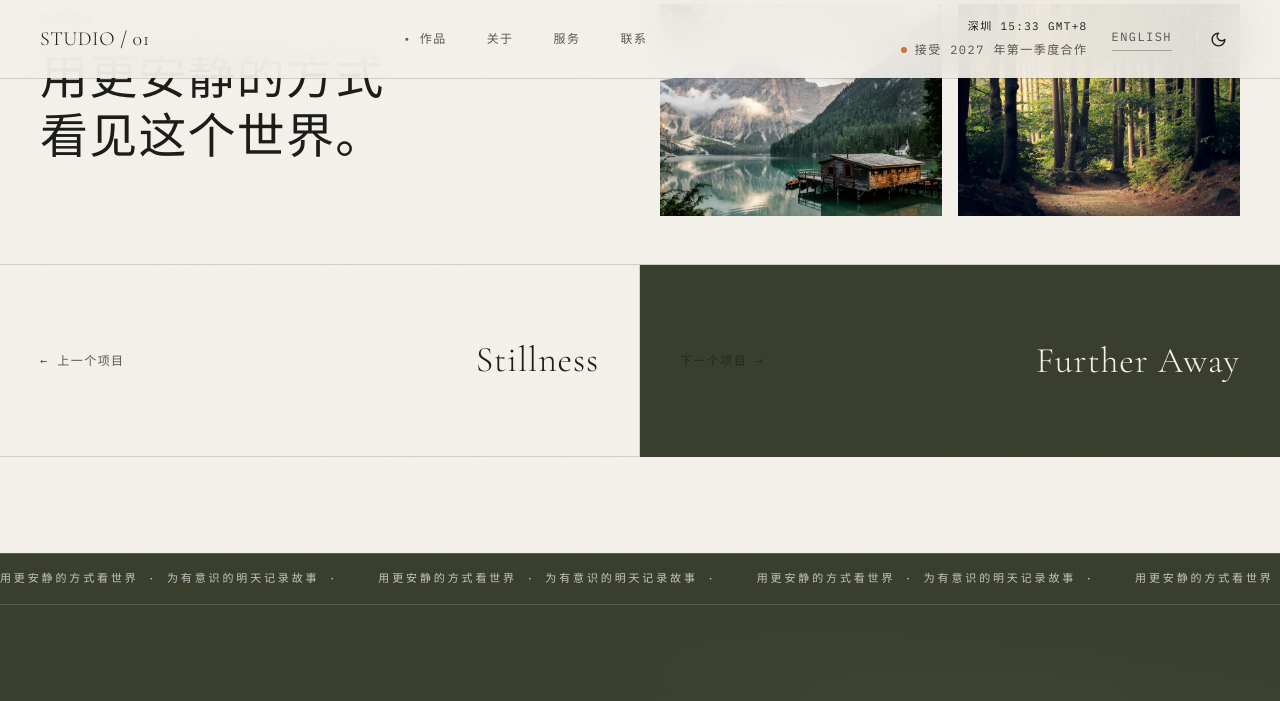
Test: admin to public content round trip › never navigates between projects on scrolling, visibility or a timer; explicit navigation still works
(page scrolled)
Click the link "下一个项目 → Further Away" at (714, 361), box [640,265,1279,457]
(page scrolled)
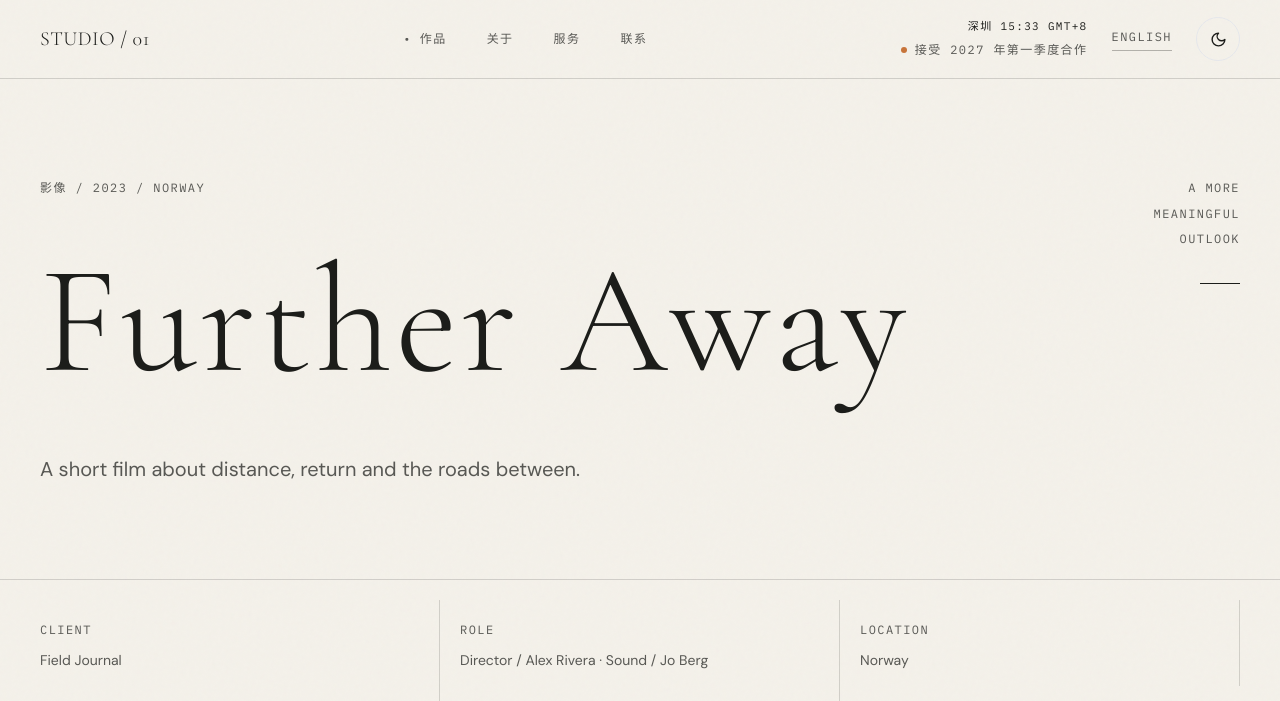
Expected: the heading "Further Away" is shown, [40,228,920,415]
